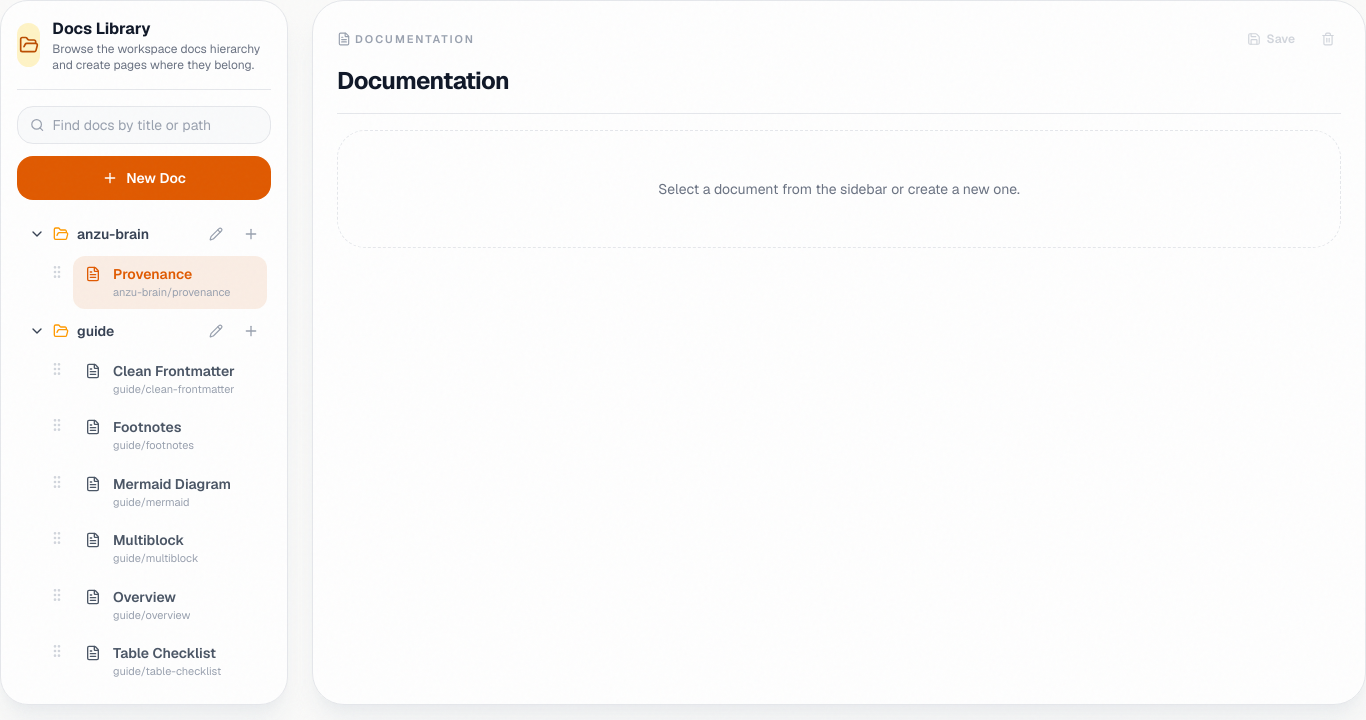
DocsScreen block-scoped rendered editing (FLUX-1663) › a Rich text no-op save (title-only edit) is byte-identical to the on-disk body
Expected: the text "Provenance" is shown, [113,265,192,283]
Click the text "Multiblock": (149, 540) [113,531,184,549]
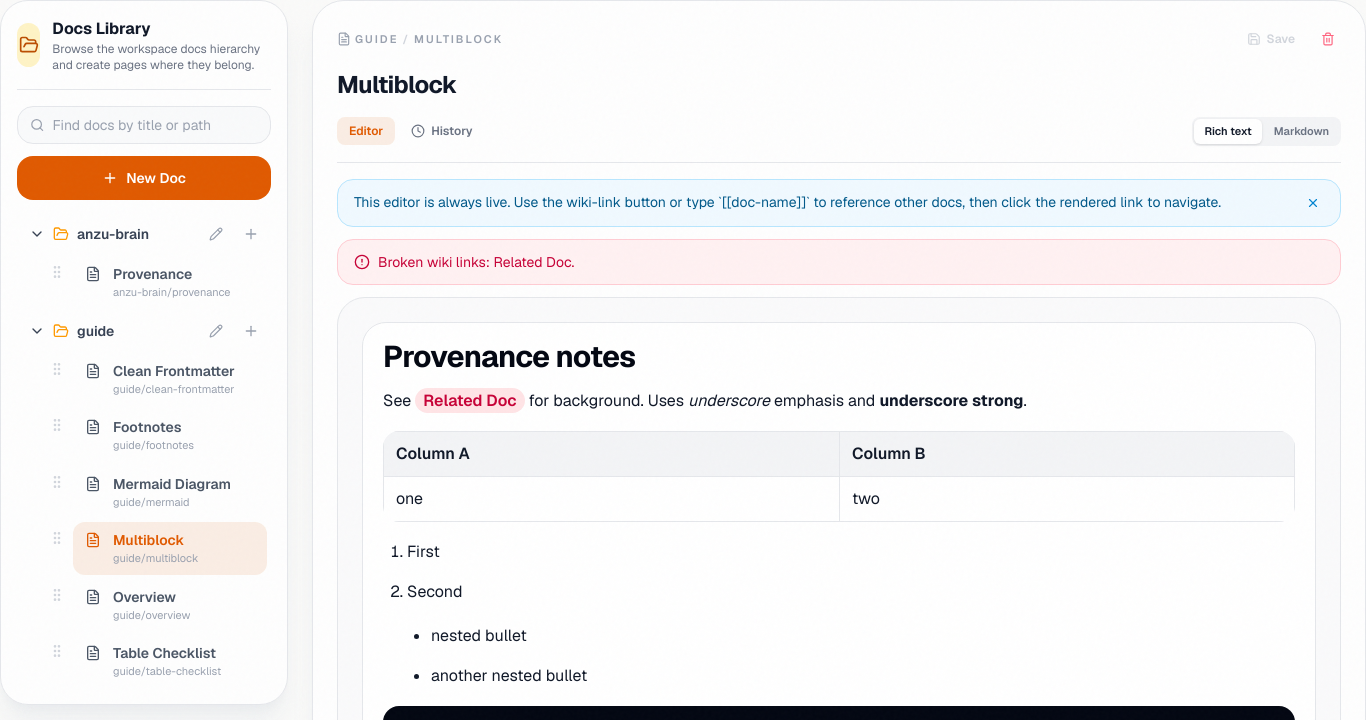
Click the button "Multiblock": (397, 85) [329,65,465,105]
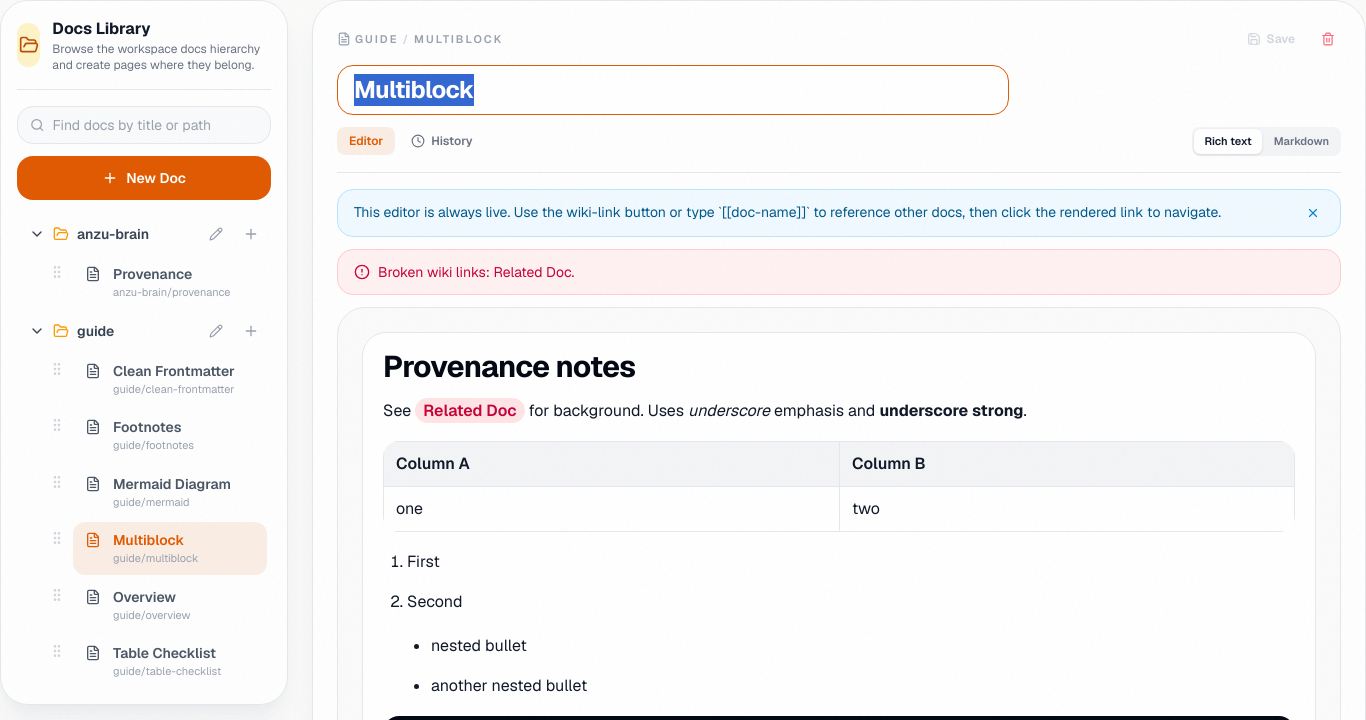
Replace the text in the field showing "Multiblock" with "Multiblock Renamed": (673, 90) [337,65,1009,115]
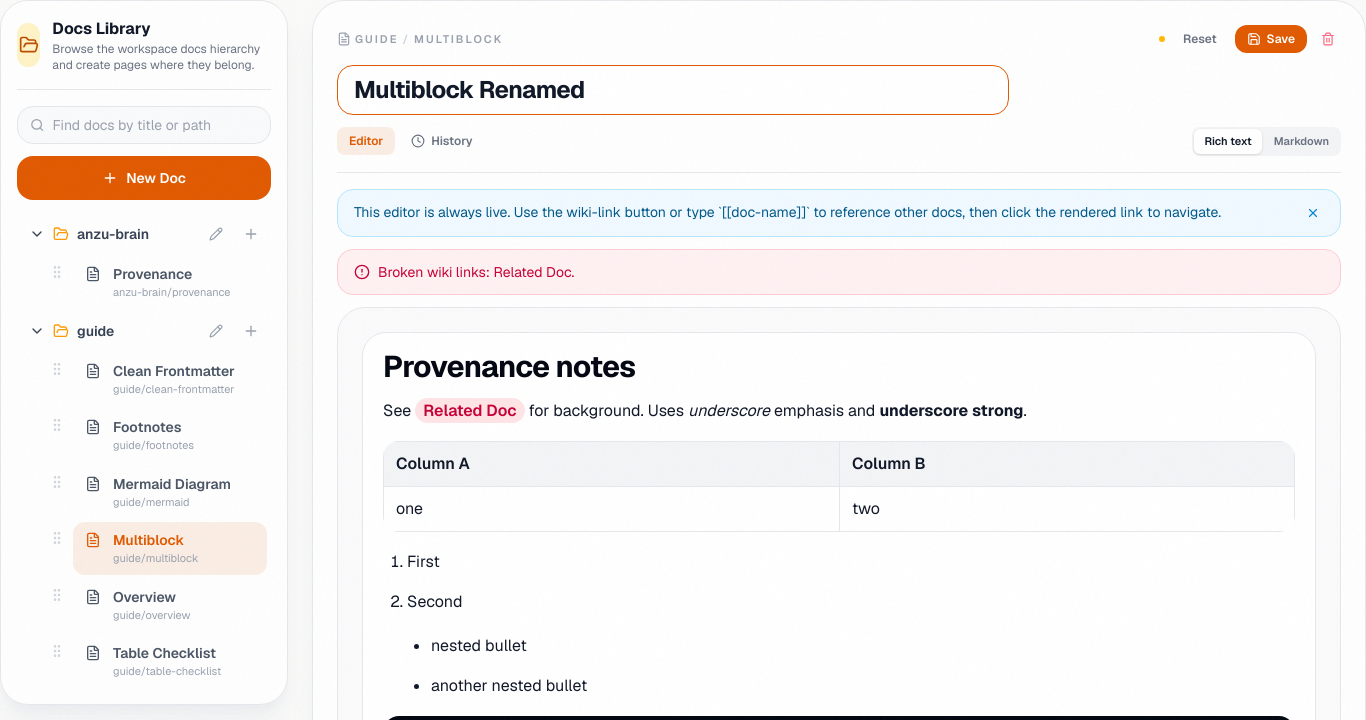
Press Enter in the field showing "Multiblock", box [337,65,1009,115]
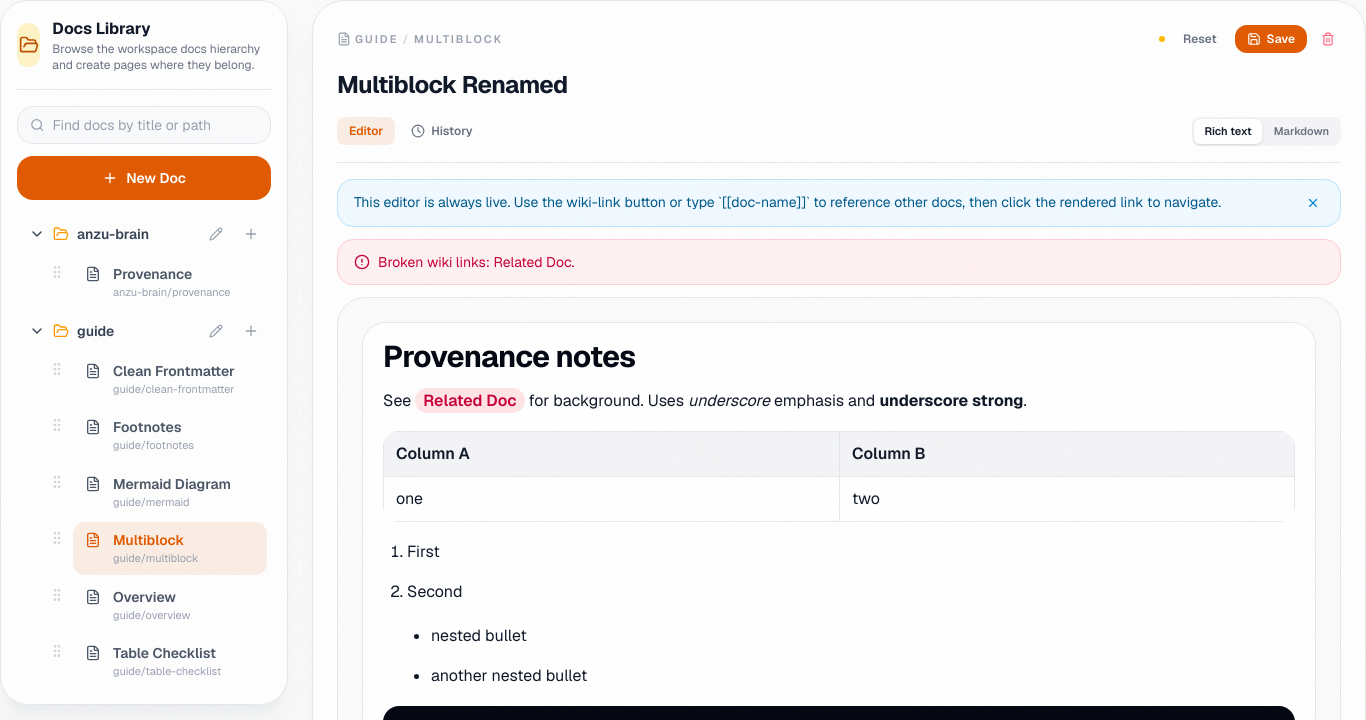
Expected: the button "Save" is enabled
Click the button "Save": (1271, 39) [1234,25,1307,53]
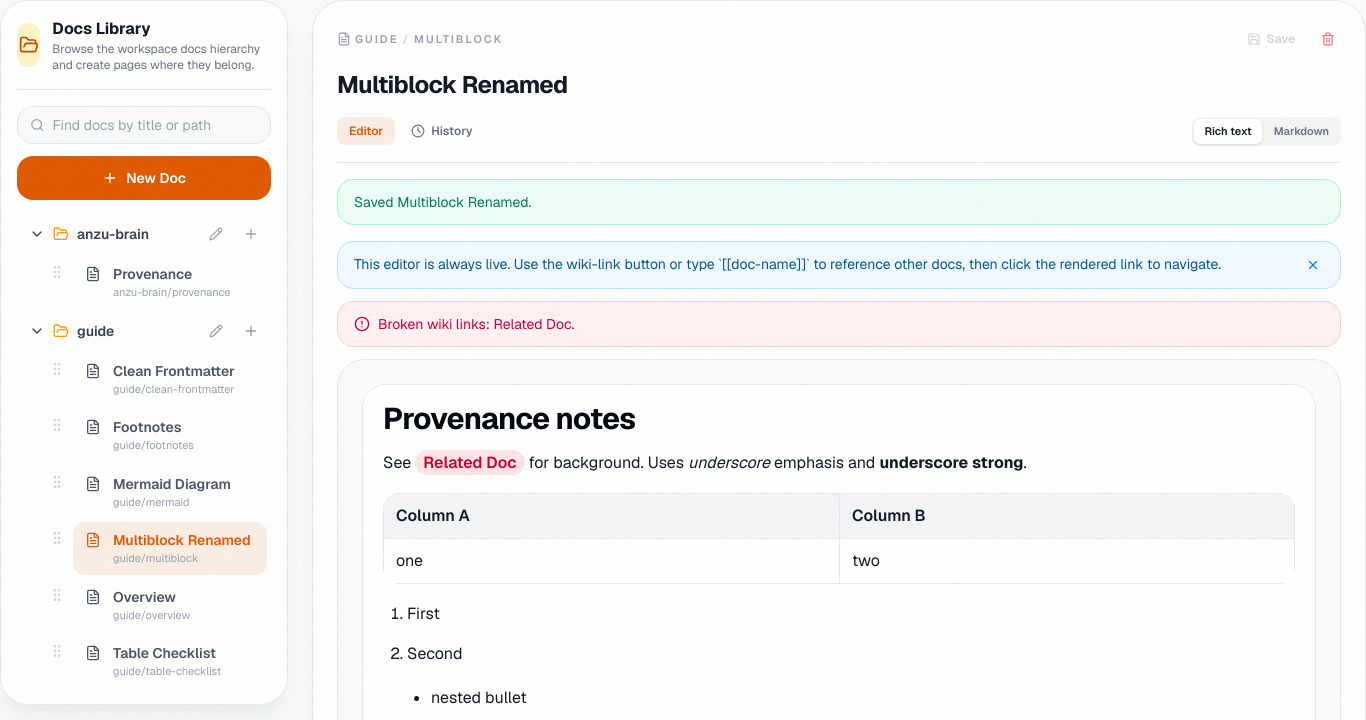
Expected: the text "Multiblock" reads "Multiblock Renamed", [113,531,251,549]
